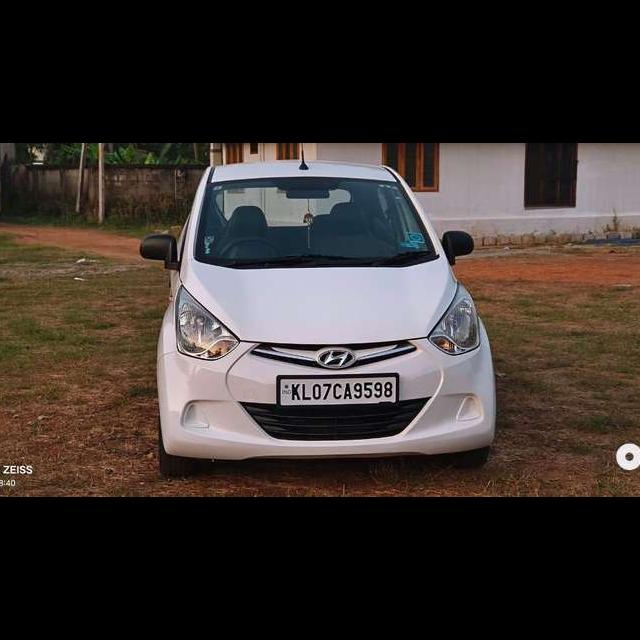Indian_Number_Plate: (276, 375, 398, 405)
